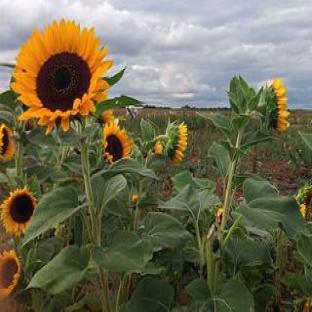sunflower: (10, 19, 114, 246)
